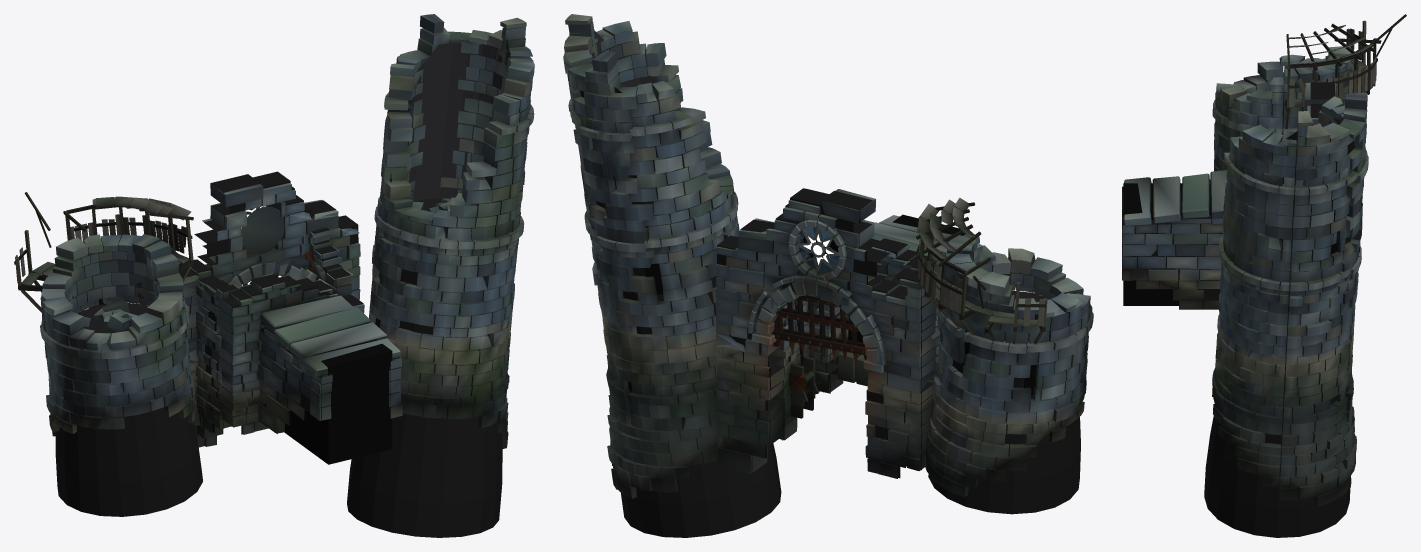
The model's file is sunken_bastion_entrance.glb.
The picture shows the model from 3 angles, left to right: view 1: azimuth 30°, elevation 25°; view 2: azimuth 150°, elevation 25°; view 3: azimuth 270°, elevation 25°; orthographic projection. The views are drawn at different scales.
Visible parts, largest first — view 1: Entrance_Gatehouse; view 2: Entrance_Gatehouse; view 3: Entrance_Gatehouse.
Part boxes in pixels (<box>): Entrance_Gatehouse: <box>14,14,534,537</box>; Entrance_Gatehouse: <box>563,14,1093,537</box>; Entrance_Gatehouse: <box>1122,14,1406,537</box>.
Bounding box in the file's own units: 22.75 × 20.82 × 12.2.
